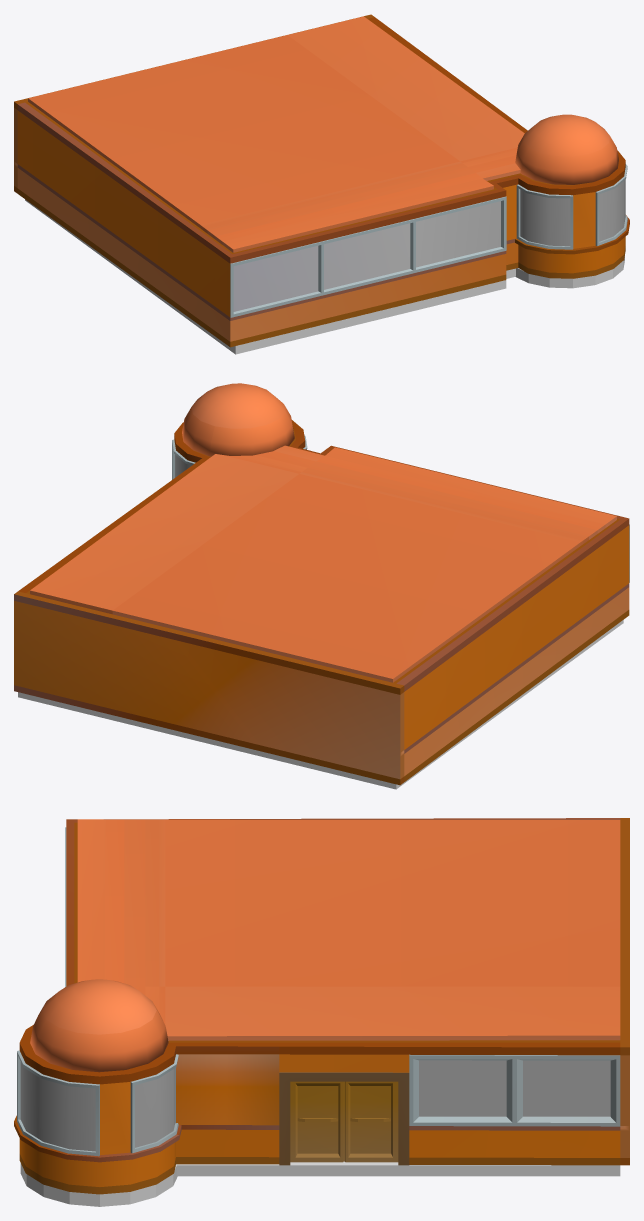
Rendered from CAT COFFEE3.fbx.
3 renders of one model, top to bottom at view 1: azimuth 30°, elevation 25°; view 2: azimuth 150°, elevation 25°; view 3: azimuth 270°, elevation 25°, orthographic. The views are drawn at different scales.
Visible parts, largest first — view 1: TECHO, MURO PRINCIPAL, ventanas, CUPULA, SUELO, Circle.010, MURO TRASERO; view 2: TECHO, MURO TRASERO, MURO PRINCIPAL, CUPULA, SUELO; view 3: TECHO, MURO PRINCIPAL, ventanas, CUPULA, SUELO, PUERTA PRINCIPAL 2, PUERTA PRINCIPAL.002, MURO TRASERO, MARCO DE PUERTA PRINCIPAL, Circle.010.
Boxes of the visible parts, left/top/right/bottom form: TECHO: left=28, top=16, right=524, bottom=252; MURO PRINCIPAL: left=17, top=17, right=629, bottom=347; ventanas: left=233, top=180, right=625, bottom=311; CUPULA: left=515, top=114, right=618, bottom=184; SUELO: left=25, top=199, right=515, bottom=354; Circle.010: left=515, top=256, right=624, bottom=288; MURO TRASERO: left=14, top=14, right=374, bottom=193; TECHO: left=30, top=445, right=616, bottom=682; MURO TRASERO: left=14, top=591, right=404, bottom=785; MURO PRINCIPAL: left=18, top=420, right=629, bottom=781; CUPULA: left=182, top=383, right=294, bottom=456; SUELO: left=18, top=620, right=623, bottom=789; TECHO: left=77, top=819, right=620, bottom=1040; MURO PRINCIPAL: left=14, top=818, right=620, bottom=1194; ventanas: left=20, top=1060, right=610, bottom=1151; CUPULA: left=30, top=979, right=168, bottom=1072; SUELO: left=176, top=1161, right=620, bottom=1176; PUERTA PRINCIPAL 2: left=290, top=1081, right=344, bottom=1162; PUERTA PRINCIPAL.002: left=344, top=1081, right=398, bottom=1162; MURO TRASERO: left=620, top=818, right=629, bottom=1165; MARCO DE PUERTA PRINCIPAL: left=279, top=1072, right=409, bottom=1165; Circle.010: left=20, top=1163, right=177, bottom=1206.
Size of the model in its own units: 1424 by 476 by 1421.
